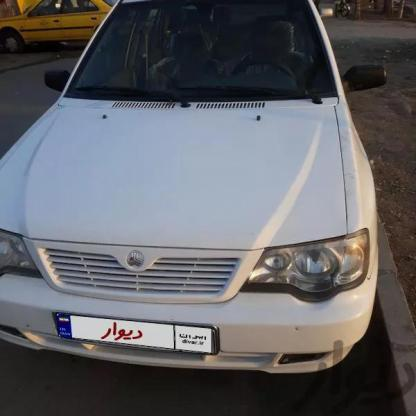Car: (2, 1, 370, 392), (0, 1, 123, 39)
